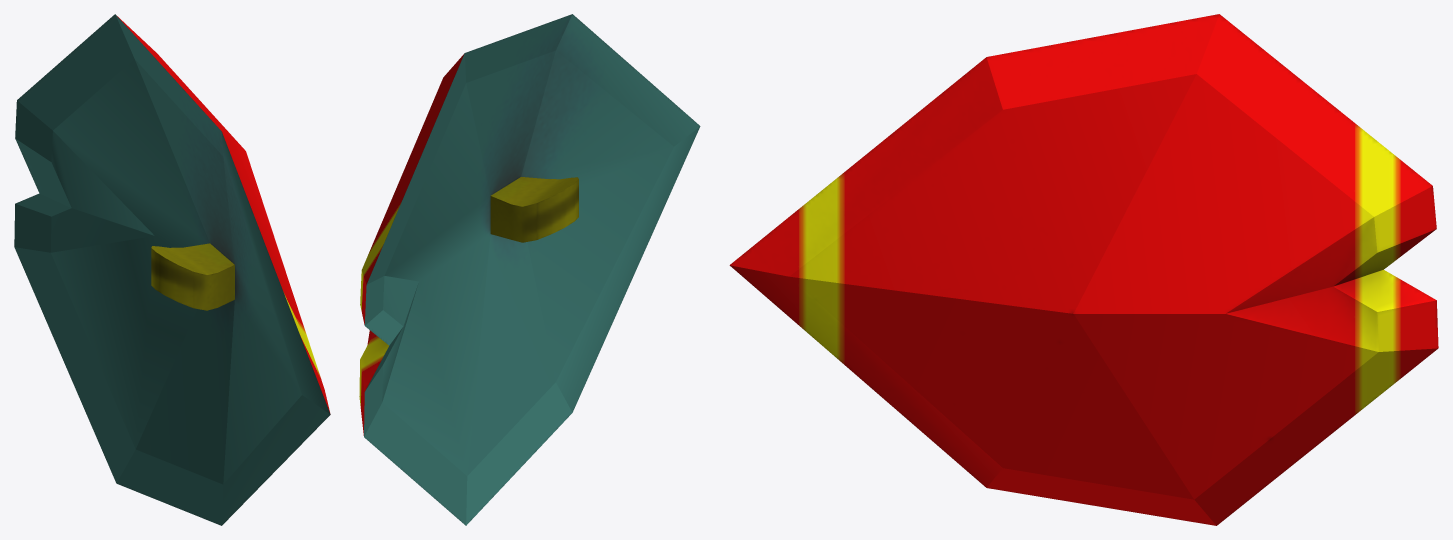
Rendered from wing_left.obj.
3 renders of one model, left to right at view 1: azimuth 30°, elevation 25°; view 2: azimuth 150°, elevation 25°; view 3: azimuth 270°, elevation 25°, orthographic. The views are drawn at different scales.
Parts seen in each view (by area): view 1: wing_left_Mesh; view 2: wing_left_Mesh; view 3: wing_left_Mesh.
Part boxes in pixels (box(x1,y1,x2,y2)): wing_left_Mesh: box(14, 14, 330, 525); wing_left_Mesh: box(359, 14, 700, 525); wing_left_Mesh: box(729, 14, 1438, 525).
Bounding box in the file's own units: 0.5524 × 2.13 × 2.68.
Materials: 1 (1 with a texture image).
